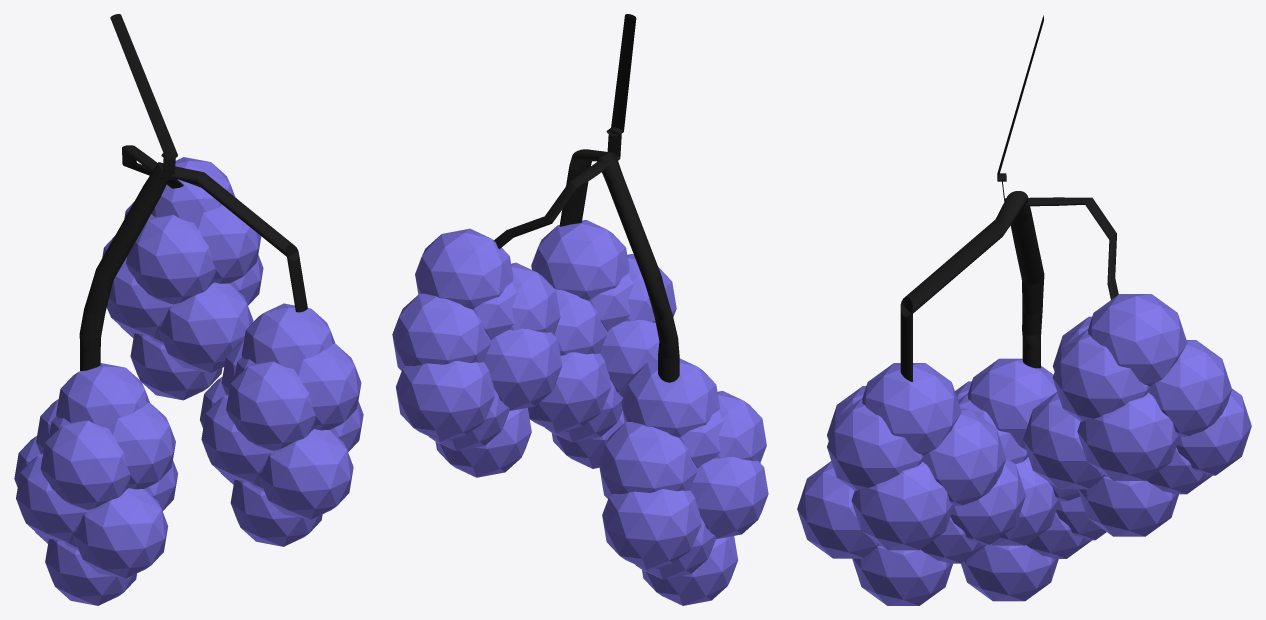
File: grapes.fbx
The picture shows the model from 3 angles, left to right: view 1: azimuth 30°, elevation 25°; view 2: azimuth 150°, elevation 25°; view 3: azimuth 270°, elevation 25°; orthographic projection. The views are drawn at different scales.
Parts seen in each view (by area): view 1: Cylinder.001; view 2: Cylinder.001; view 3: Cylinder.001.
Part boxes in pixels (<box>): Cylinder.001: <box>14,14,363,605</box>; Cylinder.001: <box>392,14,768,605</box>; Cylinder.001: <box>797,15,1251,605</box>.
Bounding box in the file's own units: 97.11 × 182 × 124.
